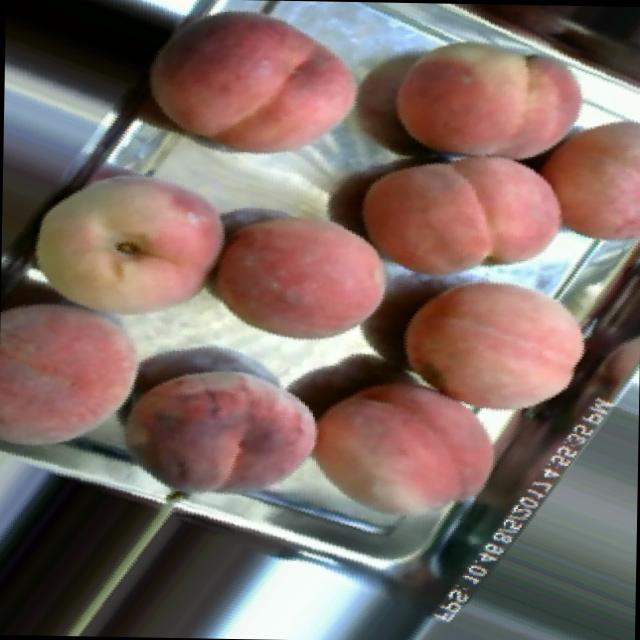Fruit: (283, 346, 522, 544), (6, 148, 245, 344), (90, 330, 340, 502), (136, 0, 377, 175), (190, 187, 407, 369), (382, 266, 607, 440), (370, 8, 606, 158), (0, 289, 167, 480), (338, 150, 514, 298), (518, 93, 640, 265)
